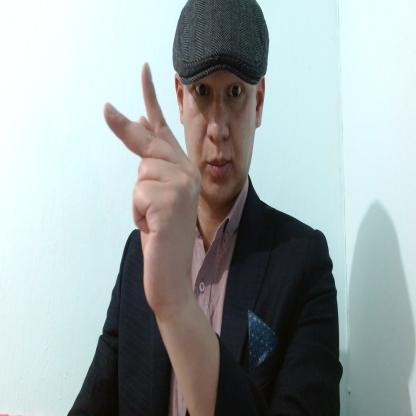P: (103, 59, 202, 312)
